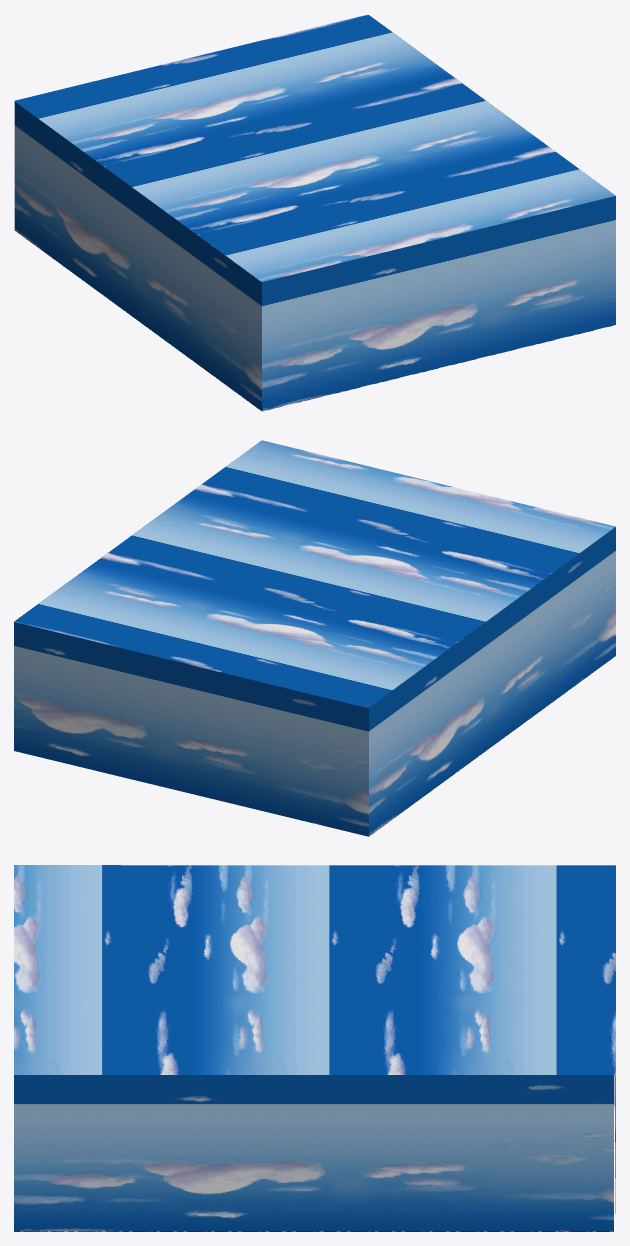
3 renders of one model, top to bottom at view 1: azimuth 30°, elevation 25°; view 2: azimuth 150°, elevation 25°; view 3: azimuth 270°, elevation 25°, orthographic. The views are drawn at different scales.
Parts seen in each view (by area): view 1: CT7v2_animiertes_wasser_Main-Himmel.001, CT7v2_animiertes_wasser_Main-Wasser_Teich.001; view 2: CT7v2_animiertes_wasser_Main-Himmel.001; view 3: CT7v2_animiertes_wasser_Main-Himmel.001, CT7v2_animiertes_wasser_Main-Wasser_Teich.001.
Part boxes in pixels (x1,y1,x2,y2): CT7v2_animiertes_wasser_Main-Himmel.001: (14, 14, 615, 410); CT7v2_animiertes_wasser_Main-Wasser_Teich.001: (16, 231, 615, 411); CT7v2_animiertes_wasser_Main-Himmel.001: (14, 440, 615, 836); CT7v2_animiertes_wasser_Main-Himmel.001: (14, 865, 615, 1231); CT7v2_animiertes_wasser_Main-Wasser_Teich.001: (14, 1231, 613, 1231).
Bounding box in the file's own units: 546338 × 193296 × 662612.
27 materials, 27 textured.
